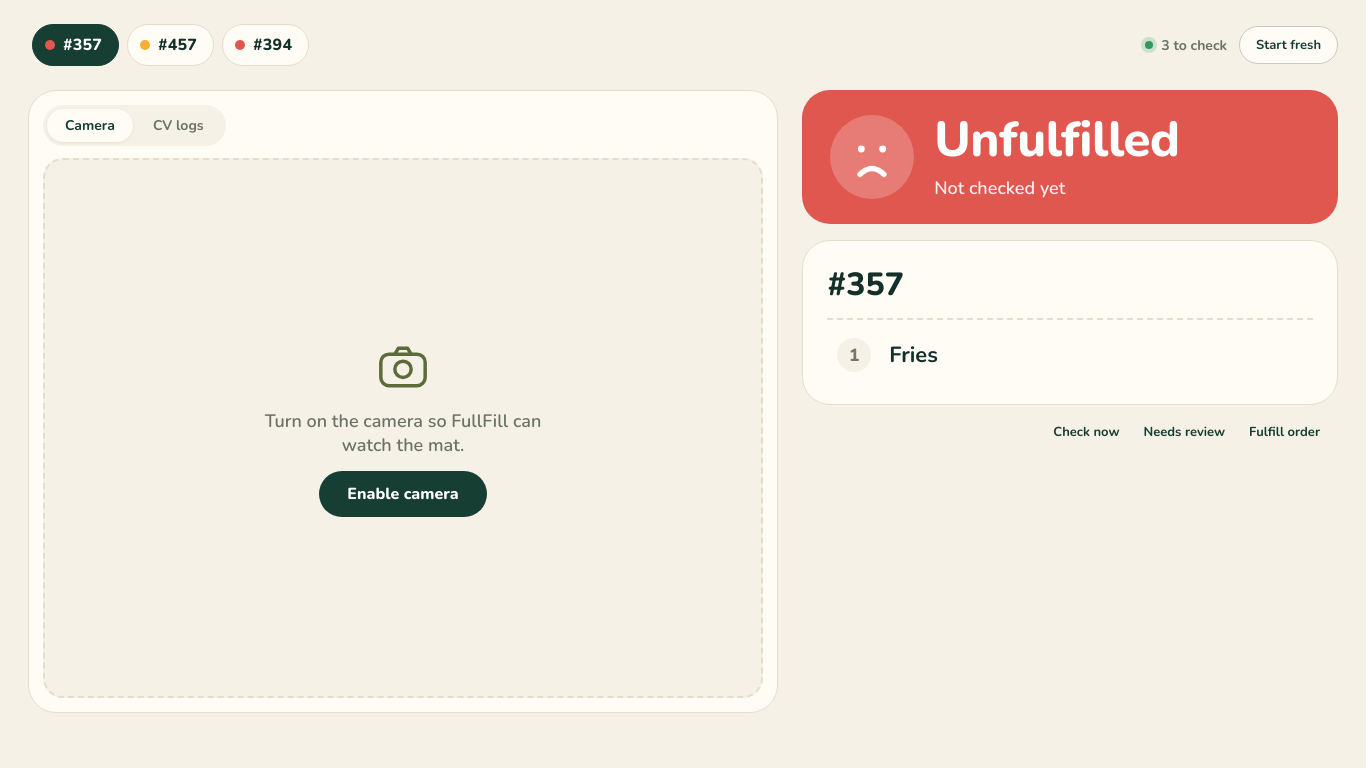
refreshes a conflict without silently overwriting the other screen
Click the button "Fulfill order": (1285, 432) [1239,417,1330,447]
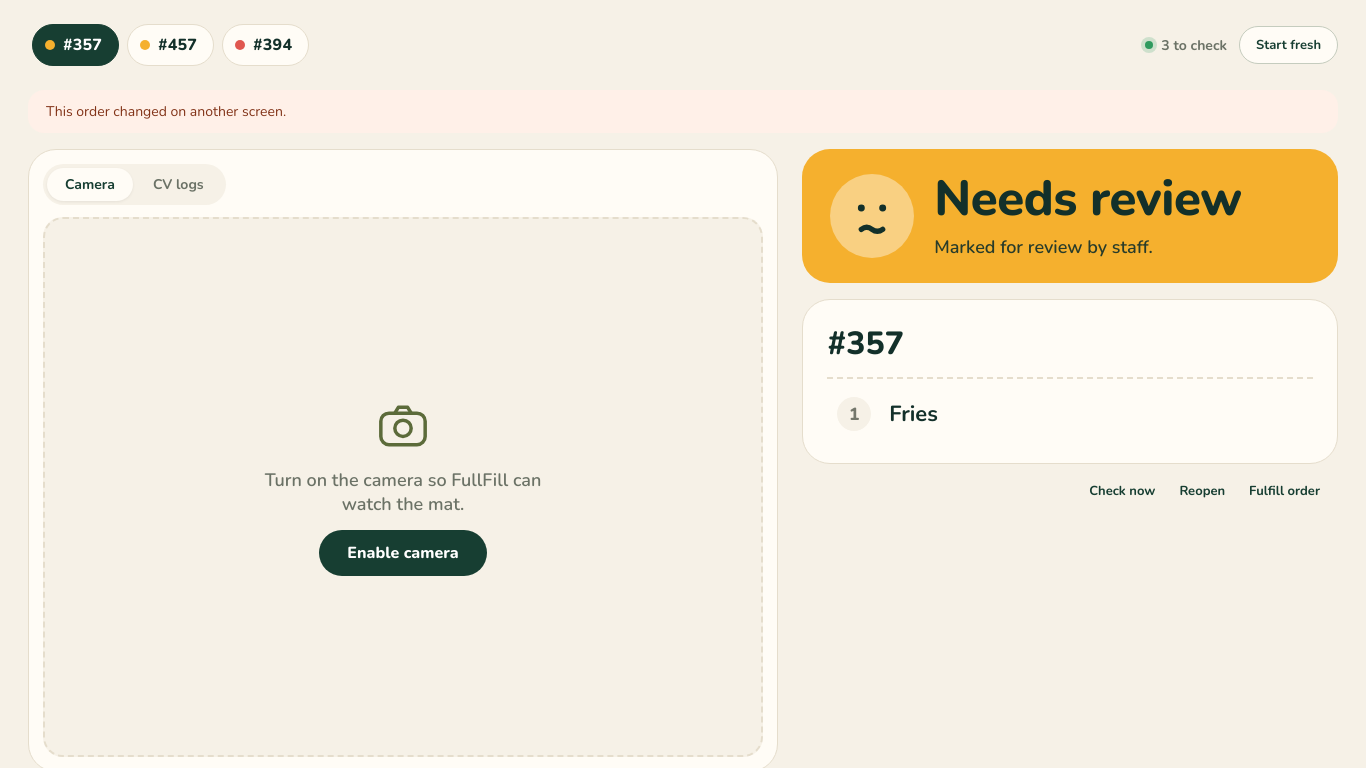
Now the element with class "tone-amber" that starts with "Fries" is shown, box [802,149,1338,464]
Now the message "This order changed on another screen." is shown, box [28,90,1338,133]
